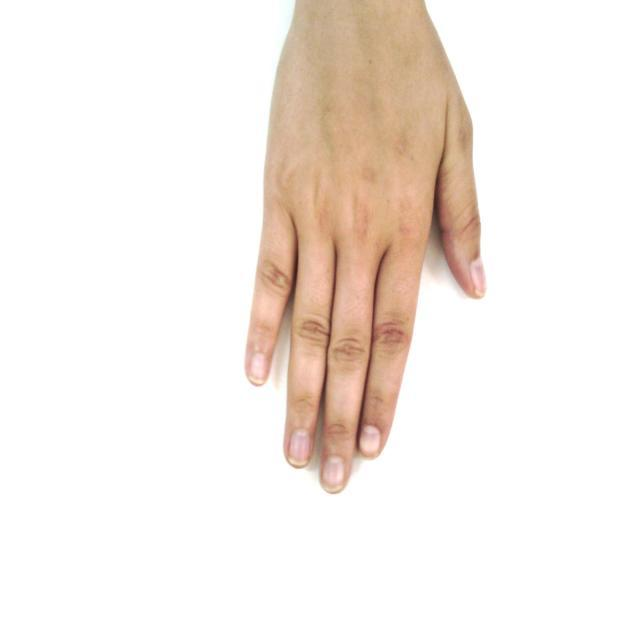Fingernail: (322, 457, 345, 492), (290, 431, 310, 464), (360, 426, 380, 456), (472, 259, 485, 294), (250, 354, 266, 381)
